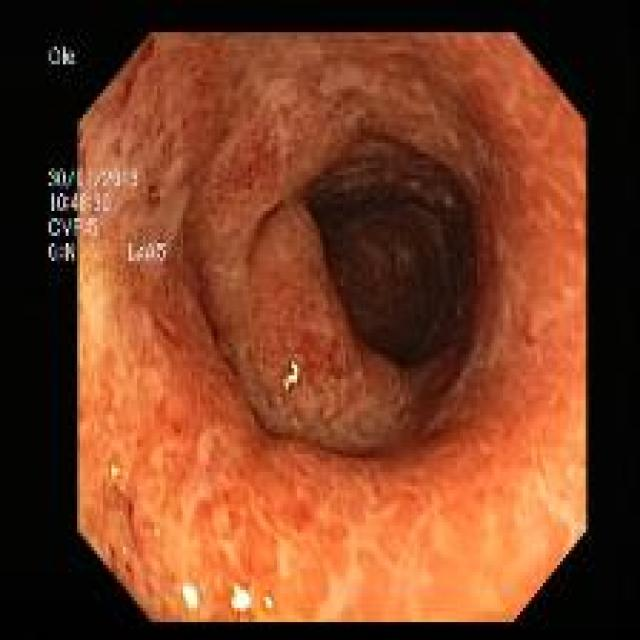ulcerative-colitis: (78, 33, 585, 622)
